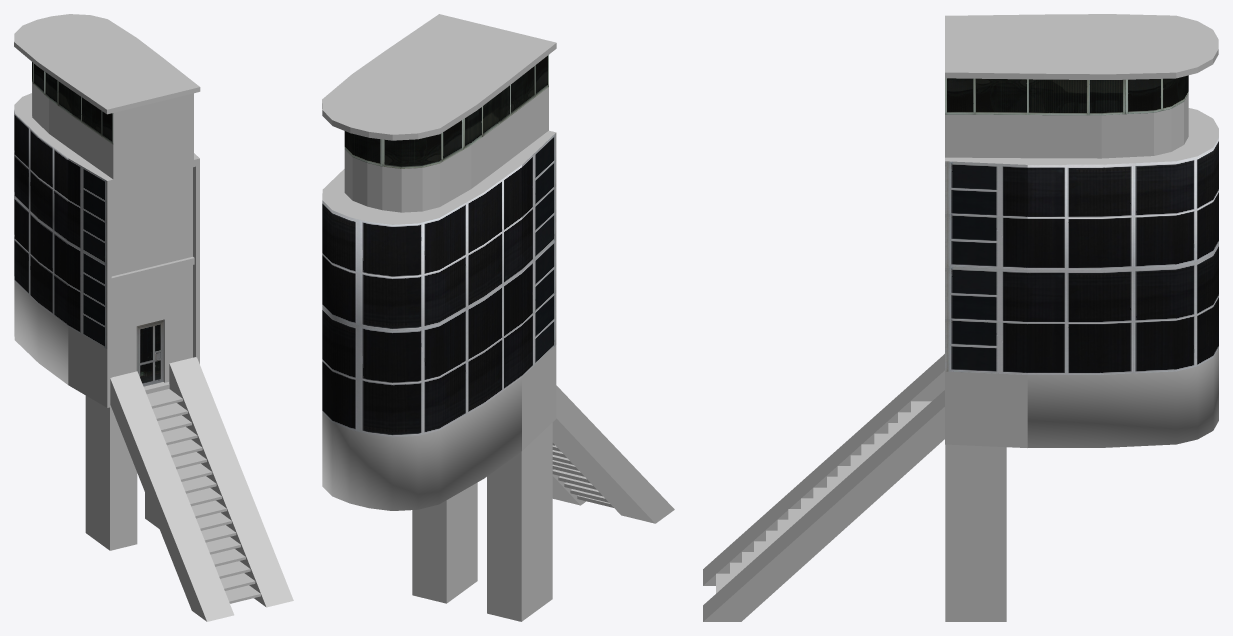
Rendered from Detail-01.fbx.
The picture shows the model from 3 angles, left to right: view 1: azimuth 30°, elevation 25°; view 2: azimuth 150°, elevation 25°; view 3: azimuth 270°, elevation 25°; orthographic projection. The views are drawn at different scales.
Visible parts, largest first — view 1: Detail-01; view 2: Detail-01; view 3: Detail-01.
Part boxes in pixels (bbox=[...]): Detail-01: bbox=[14, 14, 293, 621]; Detail-01: bbox=[322, 14, 674, 621]; Detail-01: bbox=[703, 14, 1218, 621].
Size of the model in its own units: 380 by 1538 by 1304.
